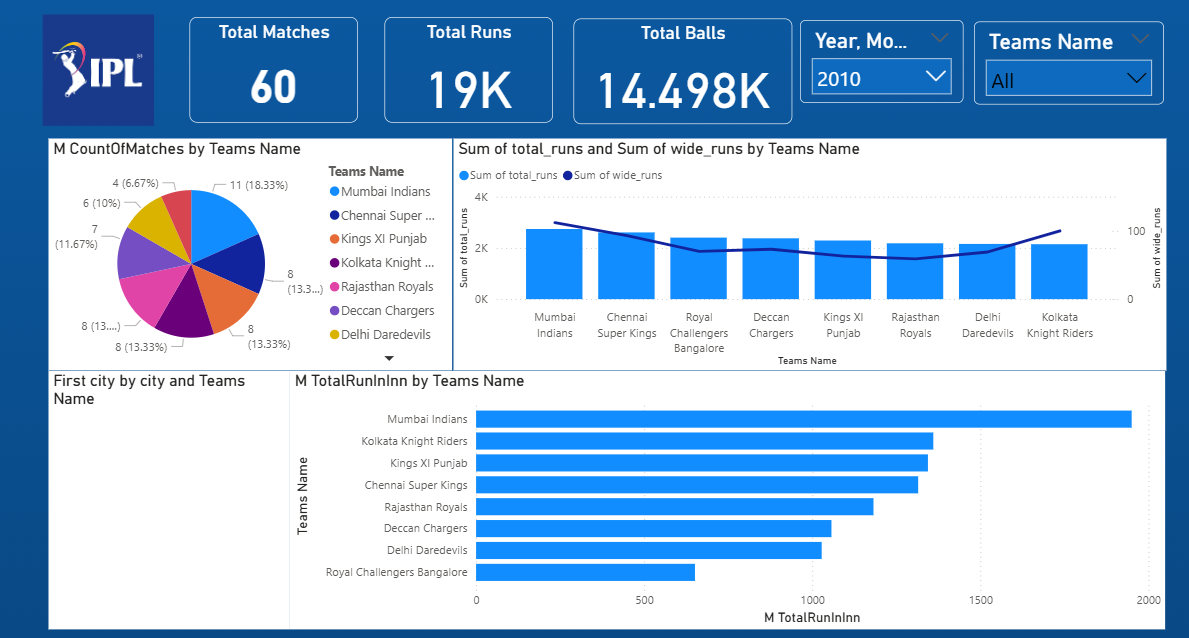

This screenshot's page, from the dashboard's own definition file:
{"tool":"powerbi","page":{"name":"Page 9","canvas":[1280,720],"ordinal":6},"visuals":[{"type":"pieChart","fields":{"Y":["deliveries.M AvgRunInInn"],"Category":["teams.Teams Name"]},"box":[66,158,428,246],"z":0},{"type":"barChart","fields":{"Category":["teams.Teams Name"],"Y":["deliveries.M TotalRunInInn"]},"box":[322,404,928,274],"z":1000},{"type":"image","box":[40,20,156.7,128.3],"z":2000},{"type":"cardVisual","title":"Total Matches","fields":{"Data":["CountNonNull(matches (2).id)"]},"box":[215,28.3,178.3,111.7],"z":3000},{"type":"cardVisual","title":"Total Runs","fields":{"Data":["Sum(deliveries.total_runs)"]},"box":[421.7,28.3,178.3,111.7],"z":4000},{"type":"cardVisual","title":"Total Balls","fields":{"Data":["CountNonNull(deliveries.ball)"]},"box":[621.7,30,231.7,111.7],"z":5000},{"type":"slicer","fields":{"Values":["matches (2).date.Variation.Date Hierarchy.Year","matches (2).date.Variation.Date Hierarchy.Month"]},"box":[862.1,31.7,173.3,88.3],"z":6000},{"type":"slicer","fields":{"Values":["teams.Teams Name"]},"box":[1047.2,32.8,201.7,88.3],"z":7000},{"type":"lineClusteredColumnComboChart","fields":{"Category":["teams.Teams Name"],"Y":["Sum(deliveries.total_runs)"],"Y2":["Sum(deliveries.wide_runs)"]},"box":[494,158,756,246],"z":8000},{"type":"map","fields":{"Category":["matches (2).city"],"Series":["teams.Teams Name"],"Y":["Min(matches (2).city)"]},"box":[66,404,256,274],"z":9000}]}

Visuals, with their boxes on the page's 1280x720 design canvas (x1, y1, x2, y2). These are canvas units, not pixel positions in the 1189x638 screenshot, which may show the page scaled, cropped or inside an application window:
pieChart - deliveries.M AvgRunInInn x teams.Teams Name: l=66, t=158, r=494, b=404
barChart - teams.Teams Name x deliveries.M TotalRunInInn: l=322, t=404, r=1250, b=678
image: l=40, t=20, r=197, b=148
"Total Matches" cardVisual: l=215, t=28, r=393, b=140
"Total Runs" cardVisual: l=422, t=28, r=600, b=140
"Total Balls" cardVisual: l=622, t=30, r=853, b=142
slicer - matches (2).date.Variation.Date Hierarchy.Year x matches (2).date.Variation.Date Hierarchy.Month: l=862, t=32, r=1035, b=120
slicer - teams.Teams Name: l=1047, t=33, r=1249, b=121
lineClusteredColumnComboChart - teams.Teams Name x Sum(deliveries.total_runs): l=494, t=158, r=1250, b=404
map - matches (2).city x teams.Teams Name: l=66, t=404, r=322, b=678
